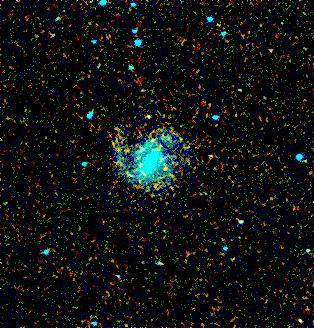star: (152, 152, 182, 182)
